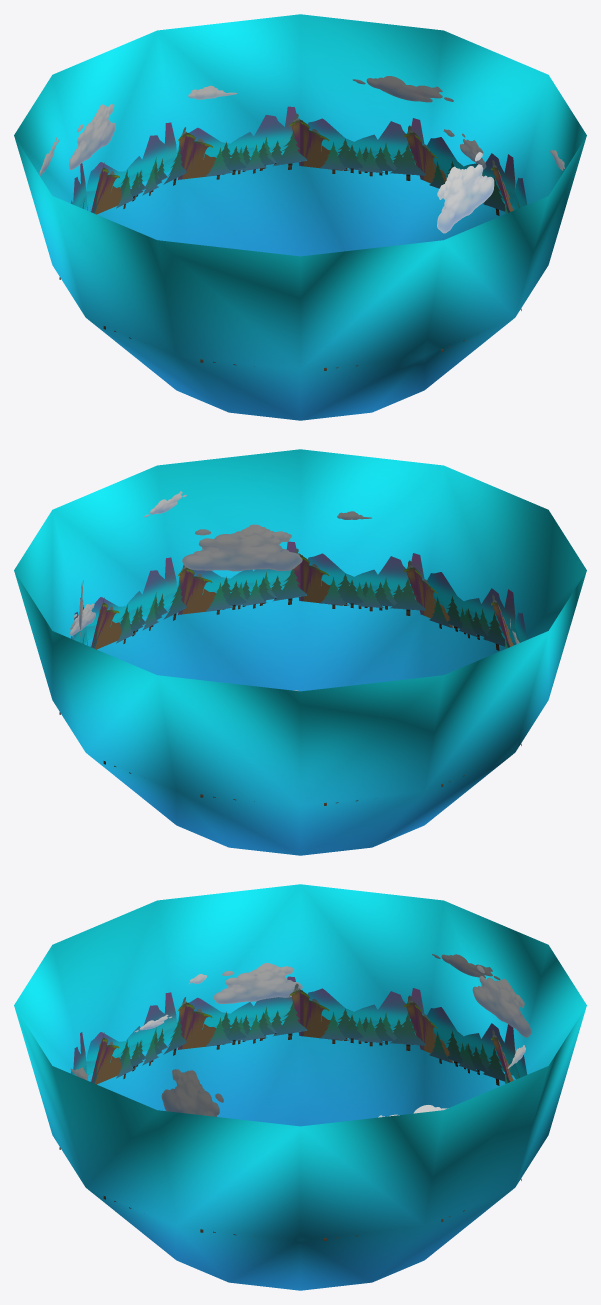
Rendered from sky_001.FBX.
3 renders of one model, top to bottom at view 1: azimuth 30°, elevation 25°; view 2: azimuth 150°, elevation 25°; view 3: azimuth 270°, elevation 25°, orthographic.
Parts seen in each view (by area): view 1: sky, hill_001, trees, colud_002, hill_002, colud_001; view 2: sky, hill_001, trees, colud_002, hill_002, colud_001; view 3: sky, hill_001, trees, colud_002, hill_002, colud_001.
Part boxes in pixels (x1,y1,x2,y2): sky: (14,14,586,420); hill_001: (70,106,527,209); trees: (59,132,521,370); colud_002: (68,76,494,233); hill_002: (91,113,513,214); colud_001: (39,85,564,175); sky: (14,449,586,855); hill_001: (71,541,527,644); trees: (59,569,521,805); colud_002: (70,524,519,691); hill_002: (91,548,513,649); colud_001: (144,491,510,628); sky: (14,884,586,1290); hill_001: (70,976,527,1079); trees: (59,1002,521,1240); colud_002: (134,963,531,1117); hill_002: (91,983,513,1084); colud_001: (70,954,525,1080).
Size of the model in its own units: 38090 by 19045 by 38090.
